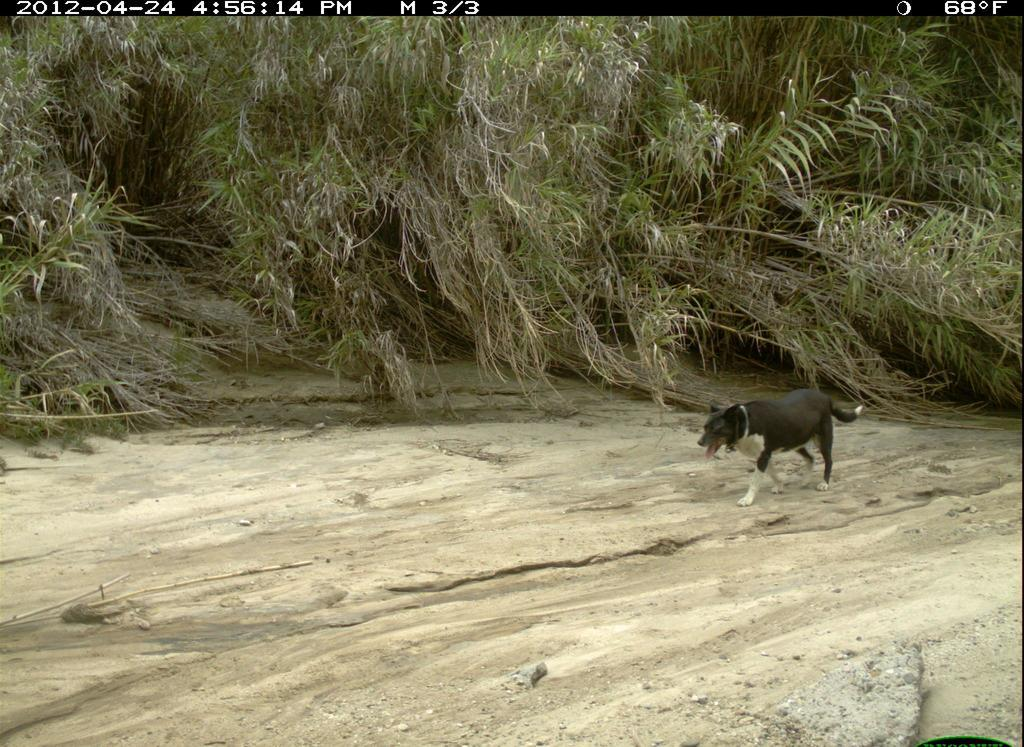dog: (694, 379, 873, 523)
